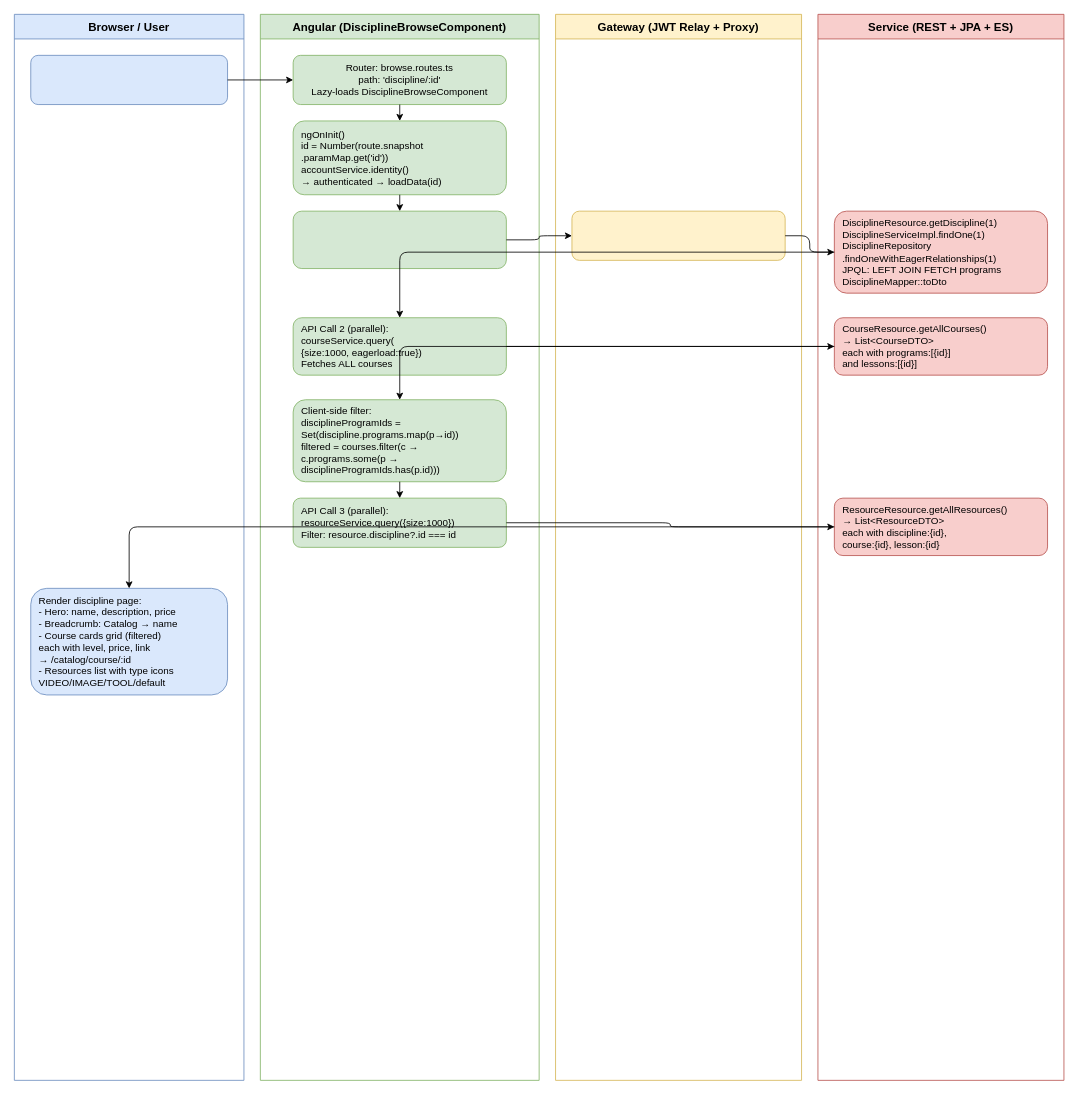
Image size: 1078x1095. Some labels were removed from this diagram. The shapes that lost their labels are listed below. From the top down, each one's centre as x and y in pixels, then its label:
At pixel 129 80: "User clicks discipline card on catalog page → /catalog/discipline/1".
At pixel 399 239: "API Call 1: disciplineService.find(id) GET /services/service/ api/disciplines/1".
At pixel 678 235: "JWT validated → relay StripPrefix=2 → /api/disciplines/1".
